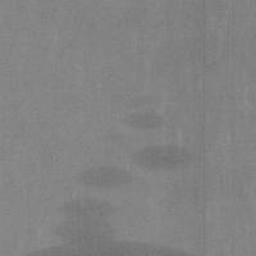Oil spot: (19, 196, 205, 256), (106, 95, 192, 174), (73, 163, 134, 189)
